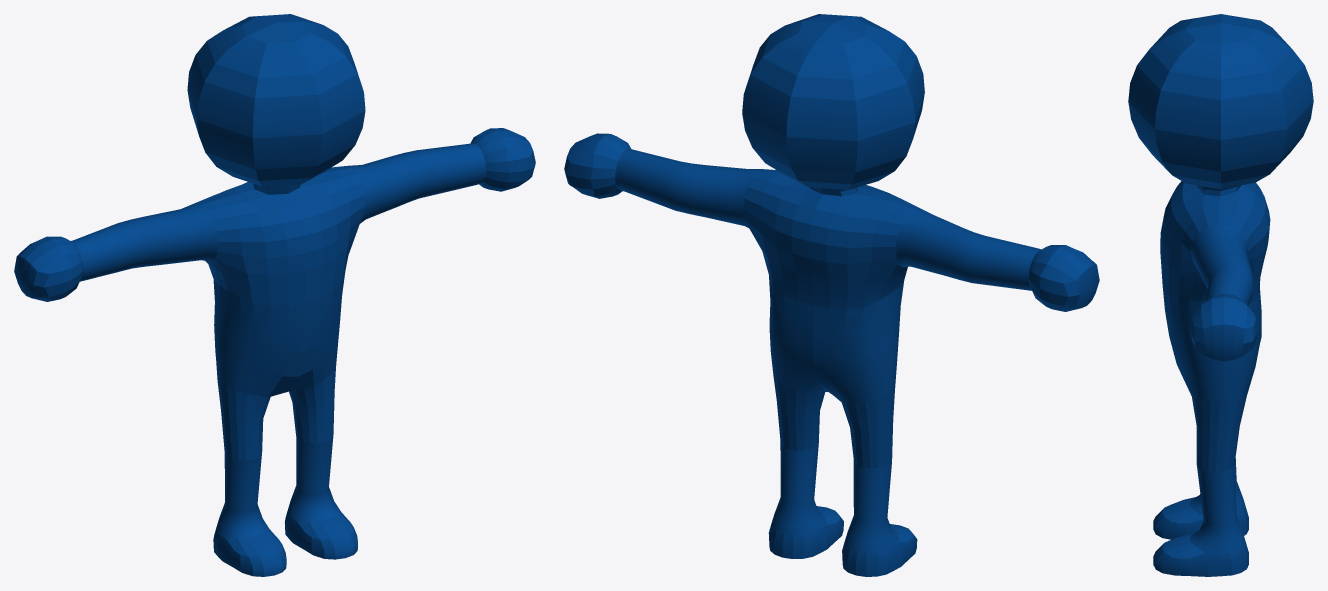
The model's file is Player.fbx.
3 renders of one model, left to right at view 1: azimuth 30°, elevation 25°; view 2: azimuth 150°, elevation 25°; view 3: azimuth 270°, elevation 25°, orthographic. The views are drawn at different scales.
Visible parts, largest first — view 1: Player; view 2: Player; view 3: Player.
Part boxes in pixels (x1,y1,x2,y2): Player: [14, 14, 535, 576]; Player: [564, 14, 1099, 576]; Player: [1128, 14, 1313, 576].
Size of the model in its own units: 85.52 by 83.52 by 26.75.
